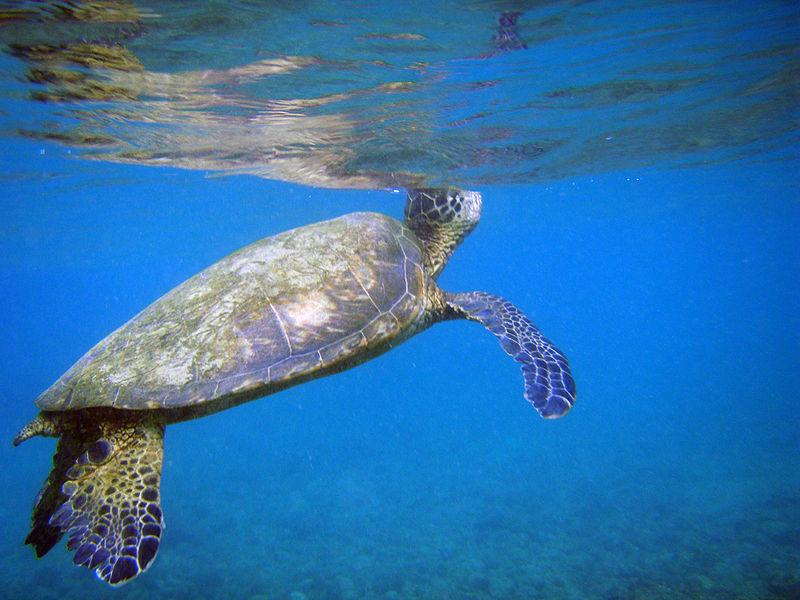turtle: (401, 182, 493, 234)
